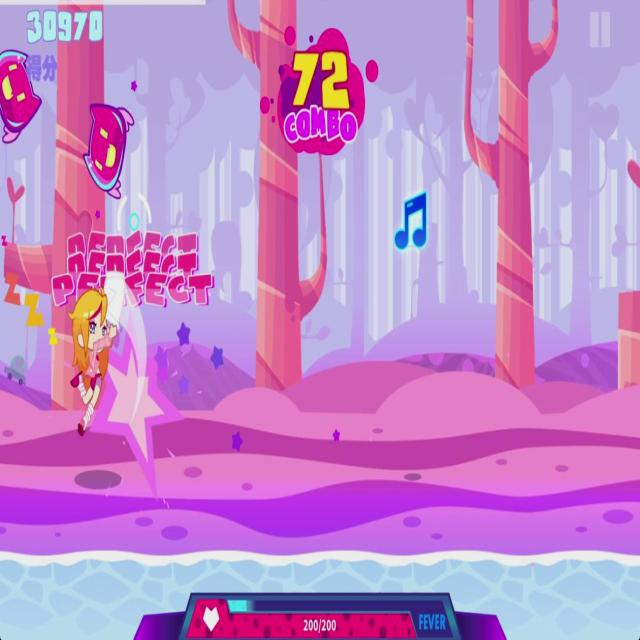Music note: (389, 183, 432, 257)
mao: (80, 92, 134, 210), (0, 44, 43, 147)
